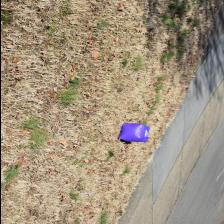cube: (118, 123, 150, 143)
